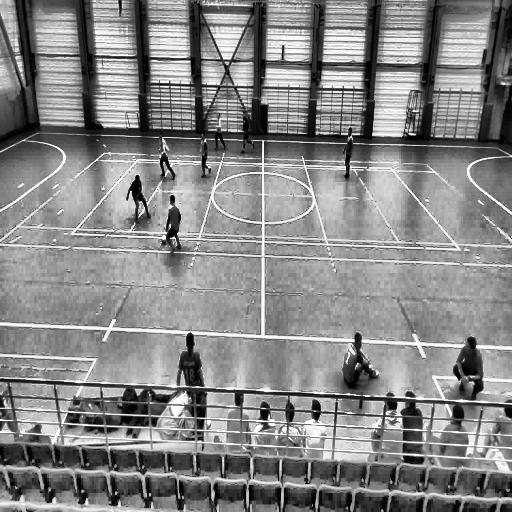ball: (161, 234, 167, 246)
player: (343, 331, 379, 410), (125, 172, 151, 222), (164, 194, 182, 254), (157, 132, 177, 180), (240, 109, 257, 155), (342, 126, 354, 182), (199, 131, 212, 179), (214, 112, 227, 154)
